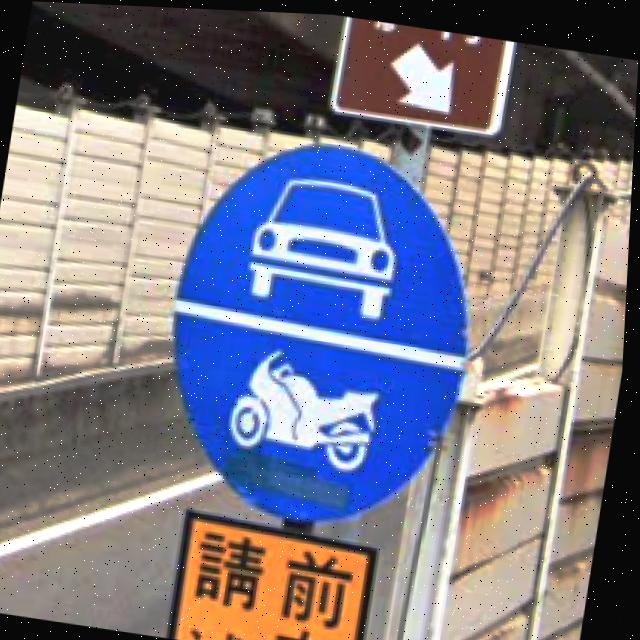carmotorcycle: (143, 115, 503, 541)
